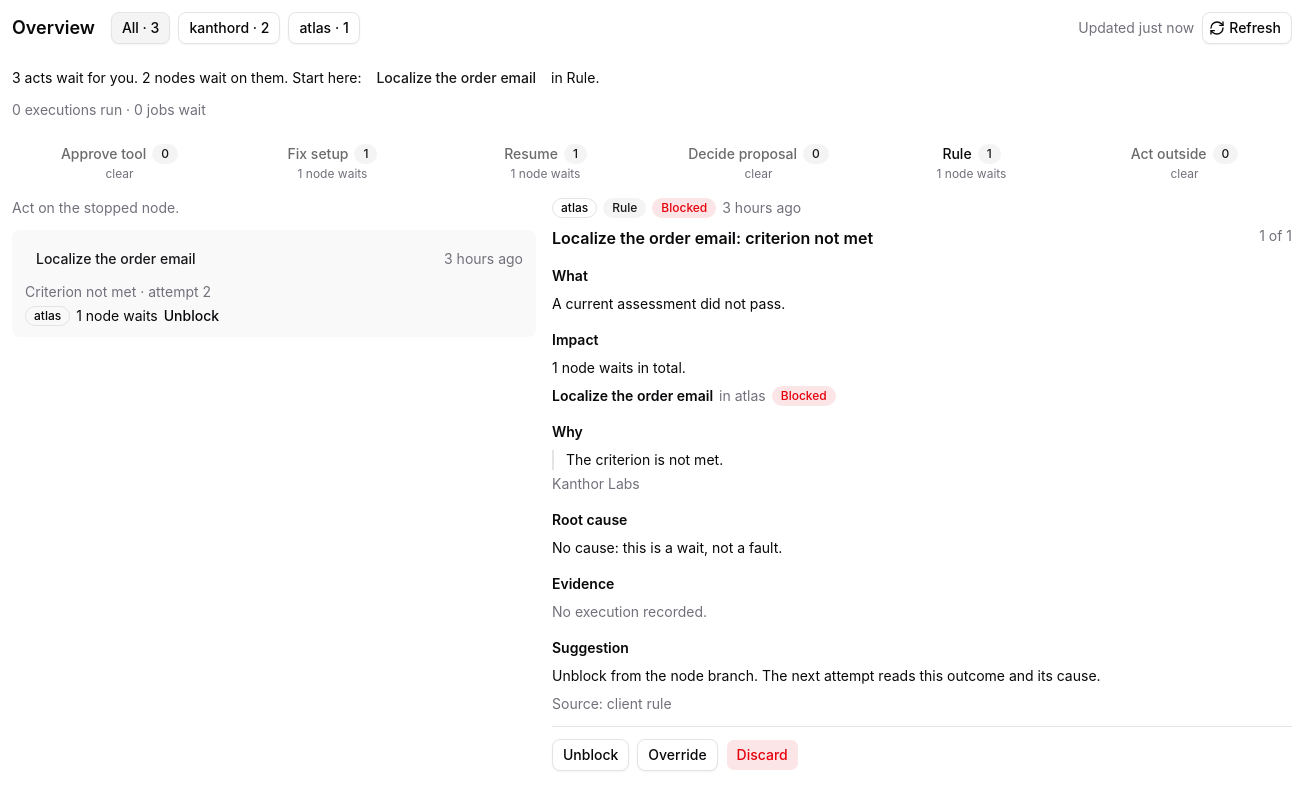
Test: OverviewScreen board › counts each tab and shows the cards of the tab that the human picks
This screenshot has width=1304, height=812.
Check: the tab with aria-label "Fix setup, 1 act" is shown, box x1=228 y1=139 x2=437 y2=187
Check: the tab with aria-label "Rule, 1 act" is shown, box x1=867 y1=139 x2=1076 y2=187
Click the tab with aria-label "Resume, 1 act": [546, 163] box x1=441 y1=139 x2=650 y2=187
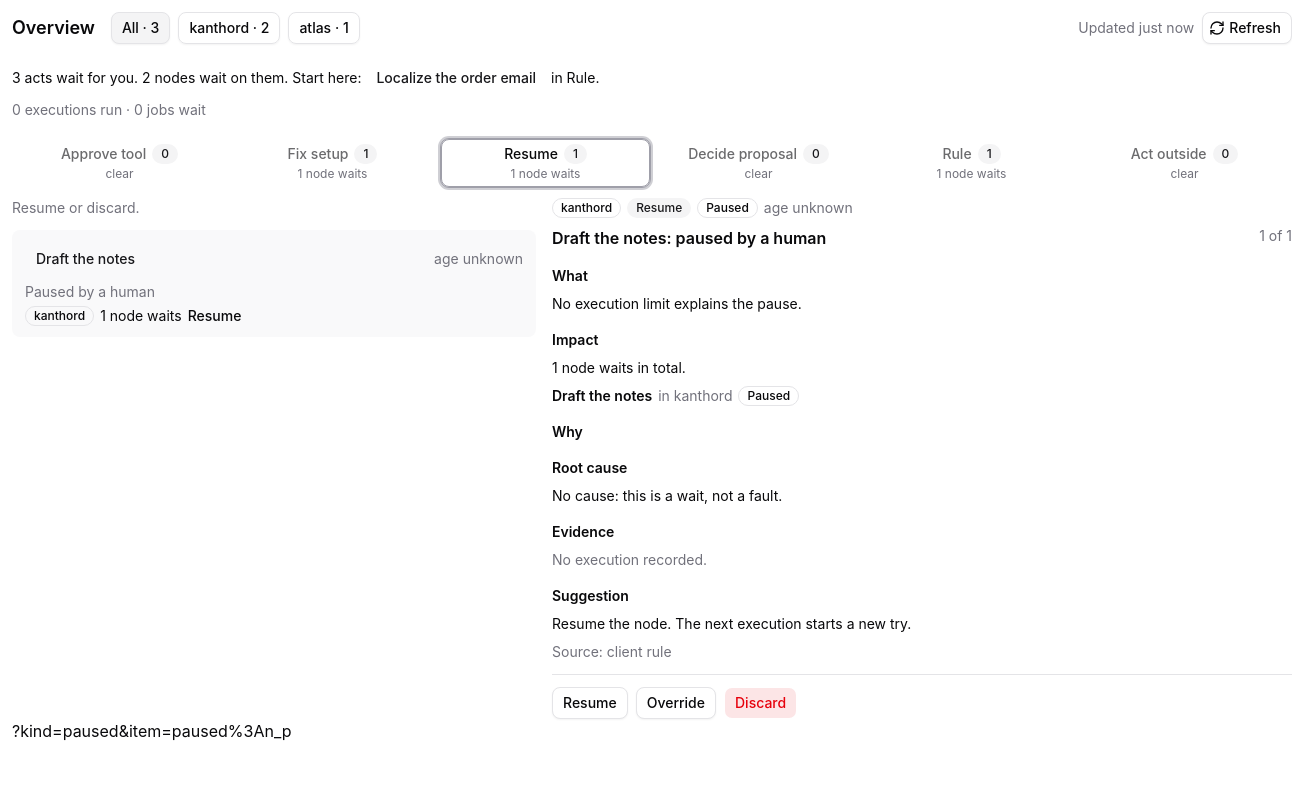
Check: the element "Draft the notes" is shown, box x1=552 y1=198 x2=1292 y2=719
Check: the button "Draft the notes" is shown, box x1=25 y1=241 x2=146 y2=277
